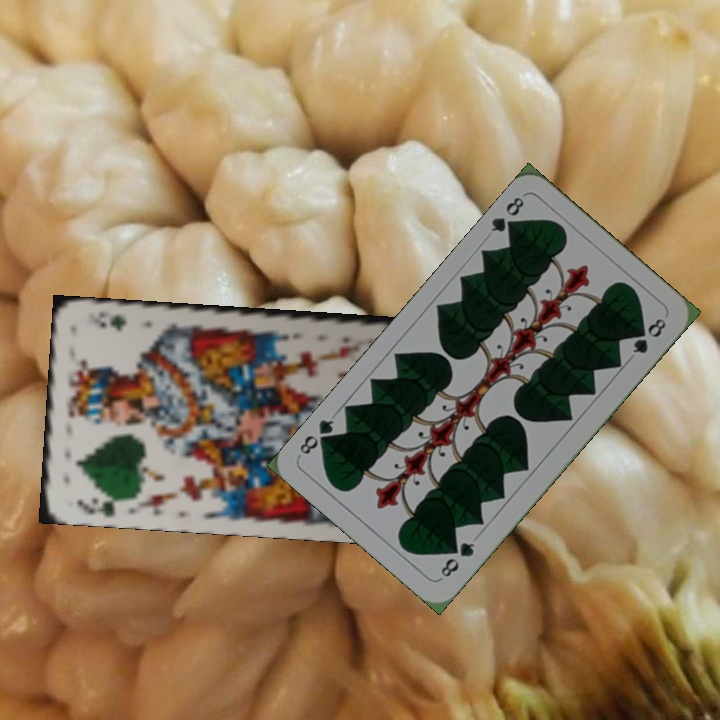G8: (487, 192, 527, 238), (436, 537, 478, 580)
GK: (73, 492, 124, 519)
